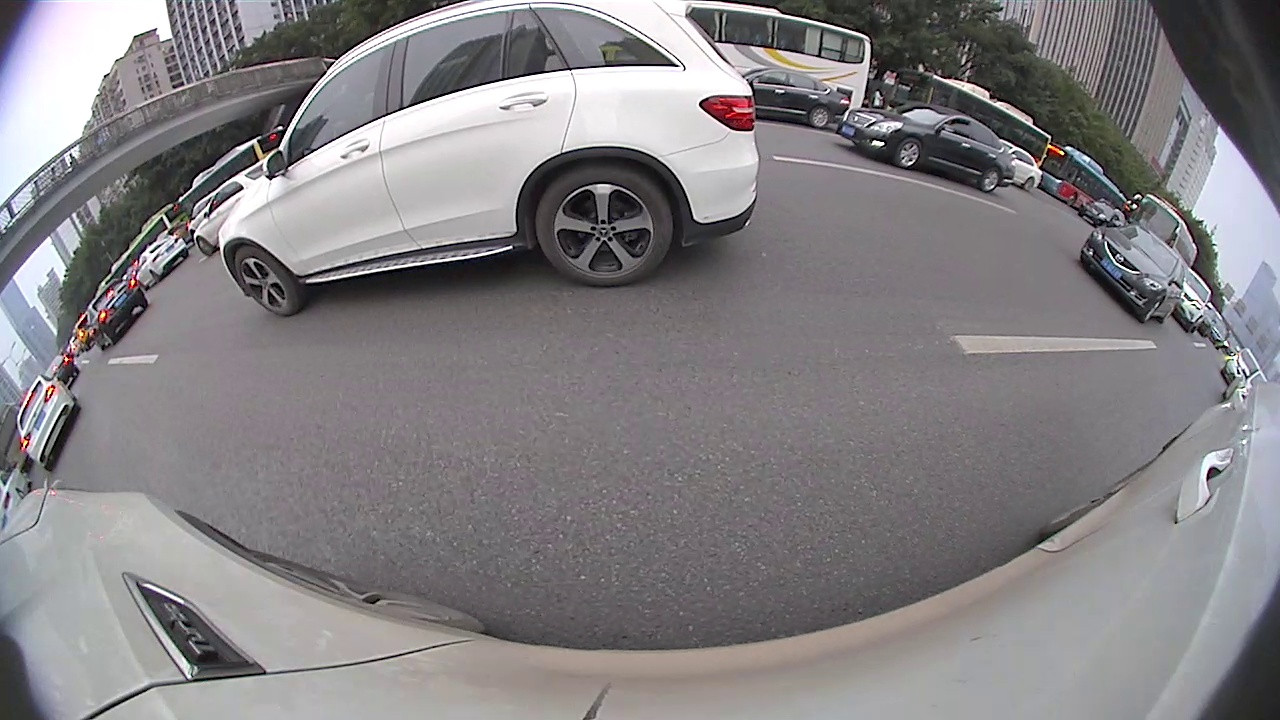bus: (656, 6, 876, 125), (887, 69, 1052, 172), (1037, 142, 1130, 222), (1120, 189, 1199, 271)
car: (217, 2, 761, 319), (840, 98, 1016, 195), (1080, 221, 1186, 325), (736, 65, 851, 126), (14, 372, 82, 468), (85, 280, 150, 351), (132, 236, 190, 289), (1171, 263, 1213, 333)
front: (233, 252, 296, 319), (897, 137, 920, 169)
rear: (535, 164, 671, 287), (810, 106, 831, 130), (979, 169, 998, 193)
